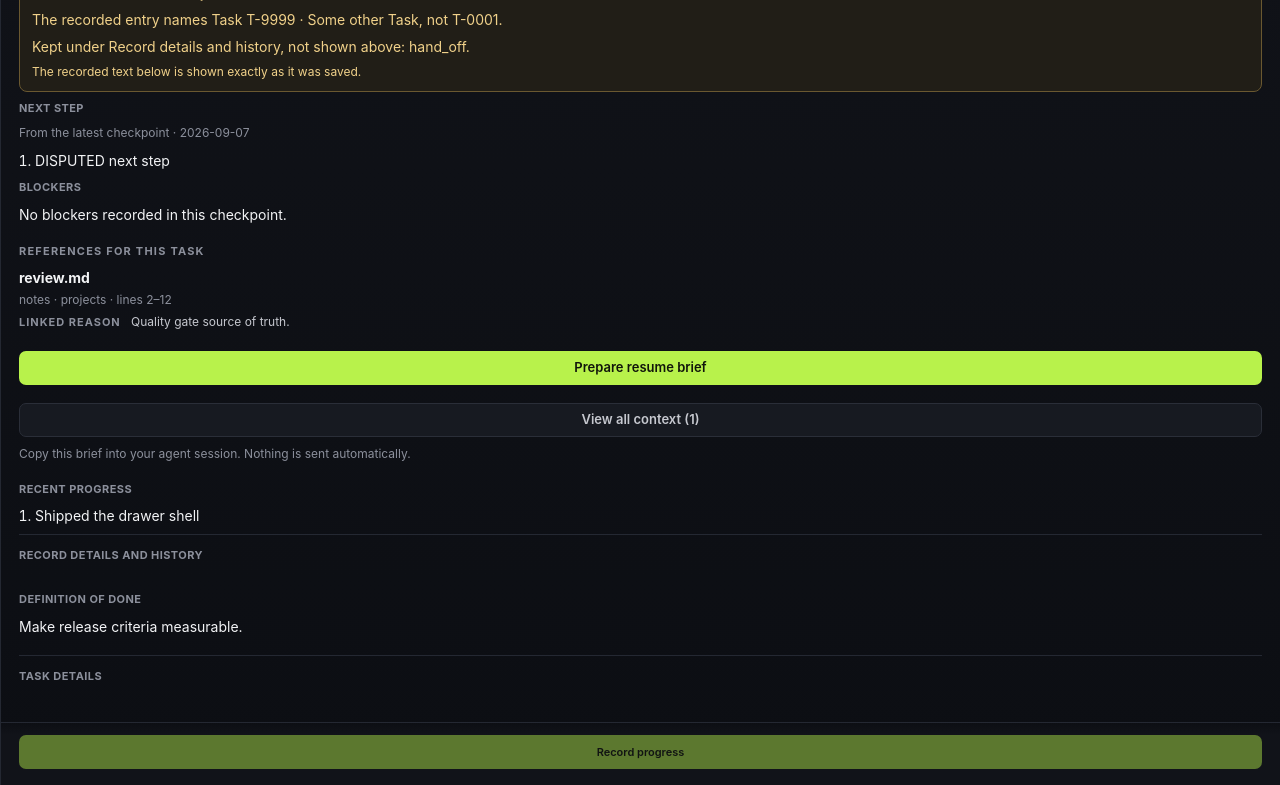
a record whose payload names another Task says so on Resume
(page scrolled)
Expected: the list item "DISPUTED next step" is shown, [35, 152, 170, 169]
Expected: the message shows "The recorded entry names Task T-9999 · Some other Task, not T-0001.", [32, 11, 503, 28]
Click the heading "Record details and history": [111, 555] box [19, 548, 203, 562]
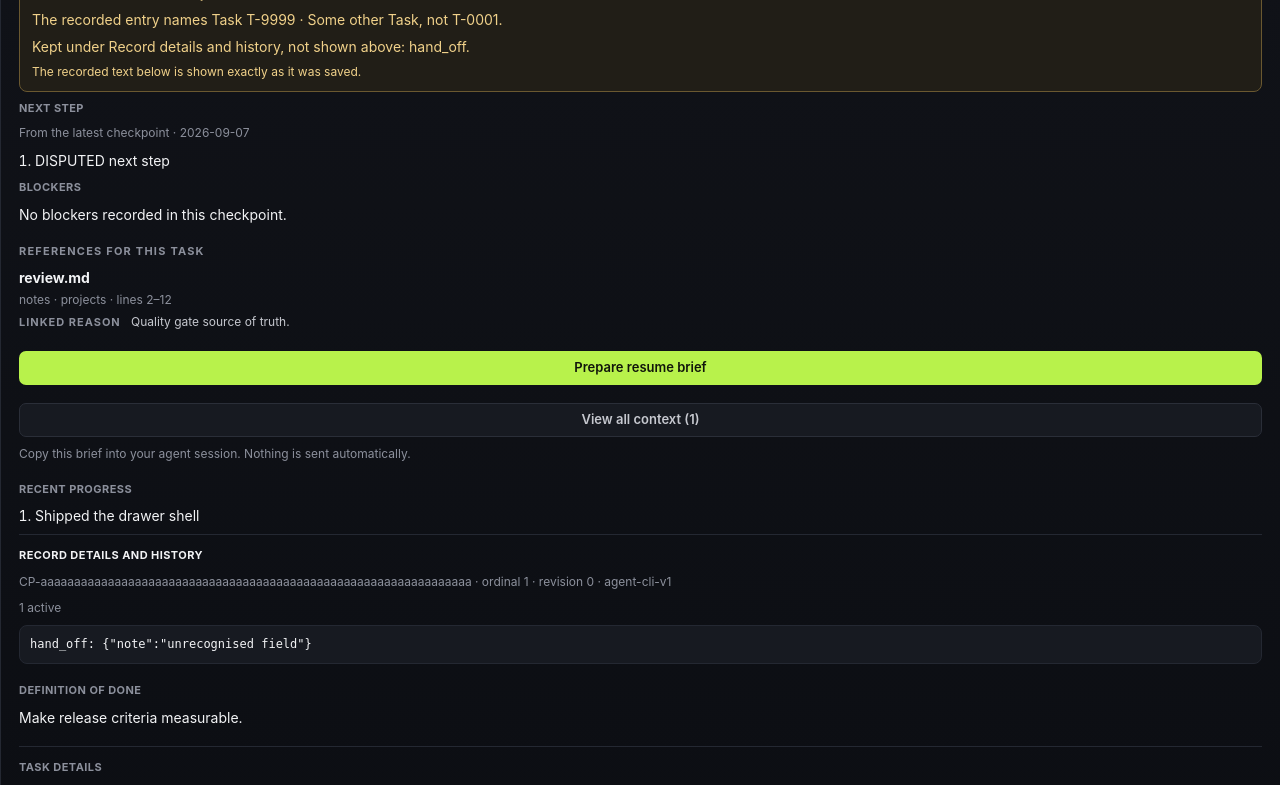
Expected: the text "hand_off: {\"note\":\"unrecognised field\"}" is shown, [19, 625, 1262, 664]
